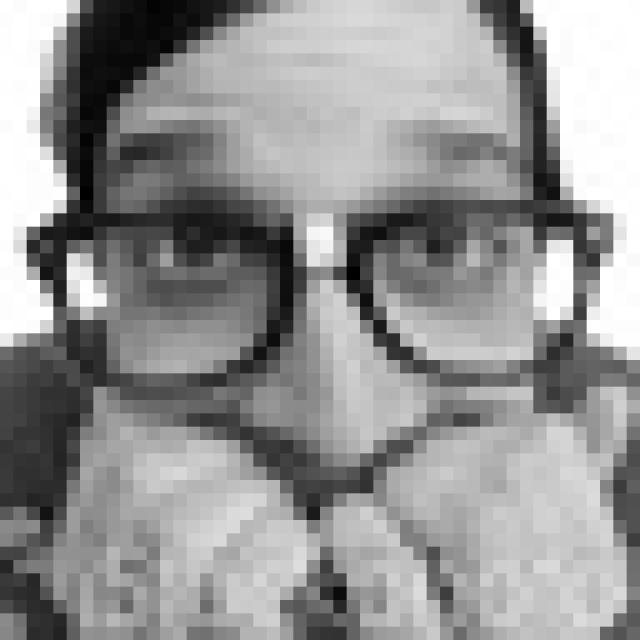fear: (111, 115, 530, 564)
